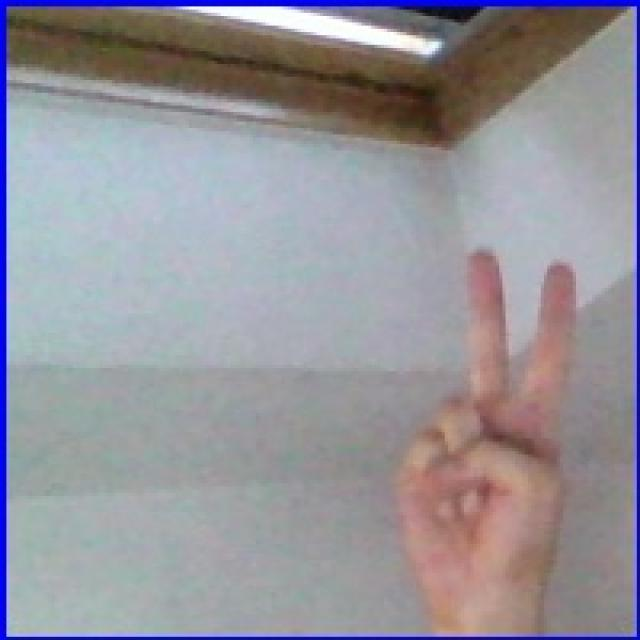Letra-V: (369, 229, 611, 618)
